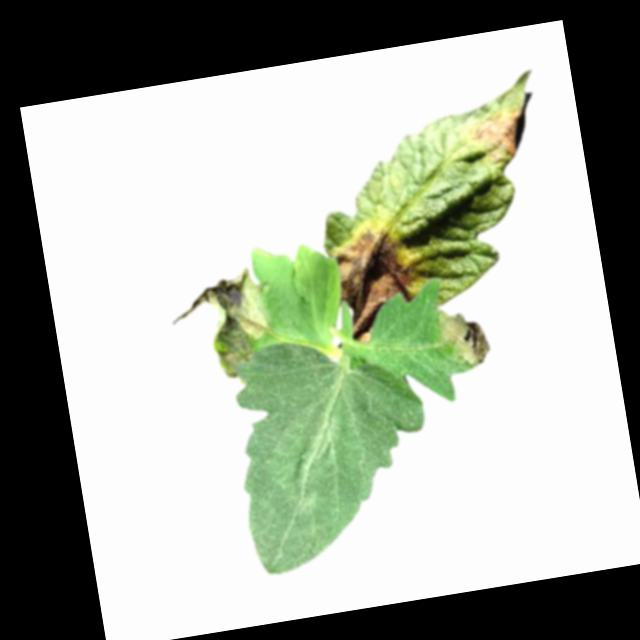Late_blight: (161, 266, 279, 396), (324, 220, 423, 345), (433, 303, 492, 373), (468, 106, 524, 164)
healthy: (222, 322, 445, 576)
